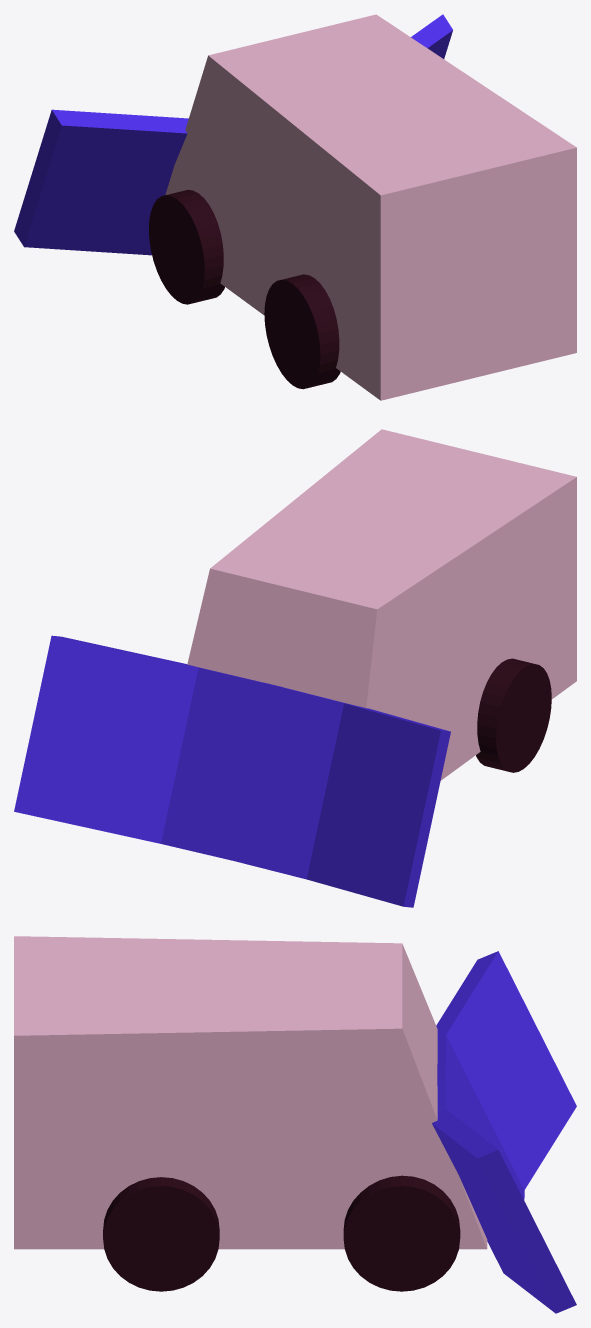
Rendered from plower.glb.
3 views of the same model, one above another, from view 1: azimuth 30°, elevation 25°; view 2: azimuth 150°, elevation 25°; view 3: azimuth 270°, elevation 25° (orthographic). The views are drawn at different scales.
Visible parts, largest first — view 1: Cube, Cube.001, Circle; view 2: Cube, Cube.001, Circle; view 3: Cube, Cube.001, Circle.
Part boxes in pixels (bbox=[...]): Cube: bbox=[165, 14, 576, 400]; Cube.001: bbox=[14, 14, 452, 255]; Circle: bbox=[148, 189, 340, 389]; Cube: bbox=[187, 429, 576, 780]; Cube.001: bbox=[14, 635, 450, 907]; Circle: bbox=[476, 658, 551, 772]; Cube: bbox=[14, 936, 487, 1249]; Cube.001: bbox=[432, 951, 576, 1313]; Circle: bbox=[103, 1175, 460, 1291].
Bounding box in the file's own units: 4.99 × 2.92 × 5.97.
